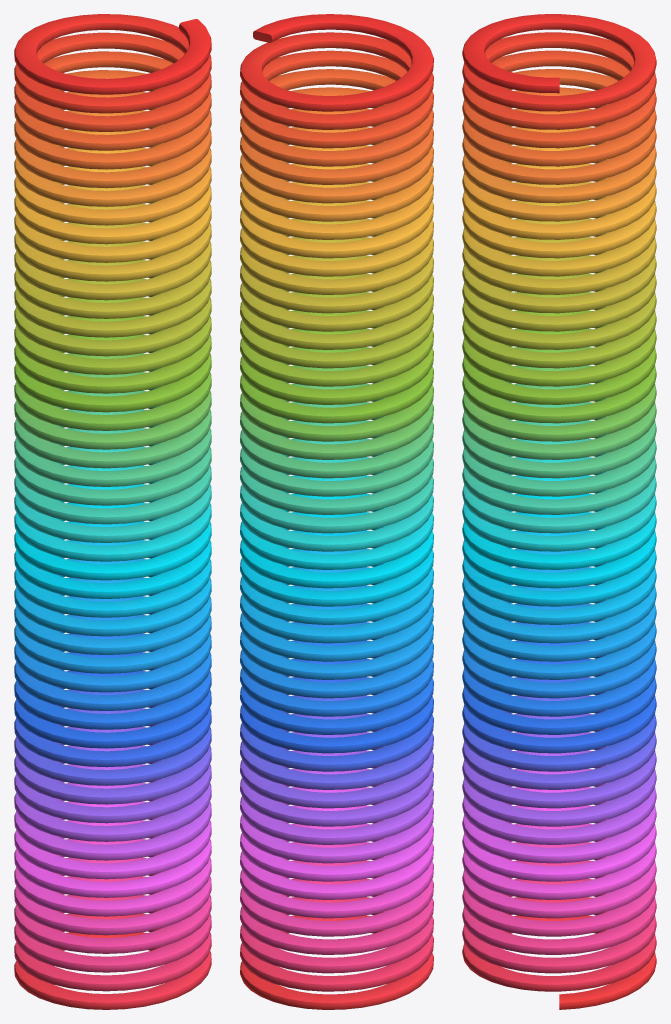
The model's file is RainbowSlinky.fbx.
The picture shows the model from 3 angles, left to right: view 1: azimuth 30°, elevation 25°; view 2: azimuth 150°, elevation 25°; view 3: azimuth 270°, elevation 25°; orthographic projection.
Visible parts, largest first — view 1: Plane; view 2: Plane; view 3: Plane.
Part boxes in pixels (bbox=[...]): Plane: bbox=[14, 14, 211, 1009]; Plane: bbox=[240, 14, 433, 1009]; Plane: bbox=[462, 14, 656, 1009].
Size of the model in its own units: 480 by 2523 by 480.
